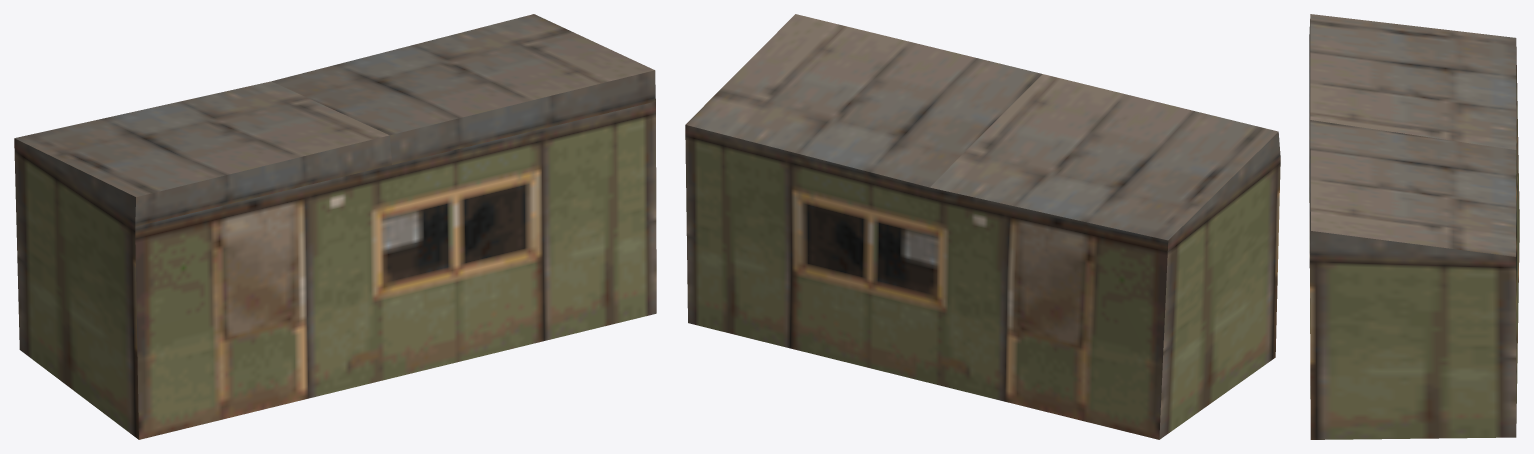
File: barrack01.glb
3 renders of one model, left to right at view 1: azimuth 30°, elevation 25°; view 2: azimuth 150°, elevation 25°; view 3: azimuth 270°, elevation 25°, orthographic. The views are drawn at different scales.
Visible parts, largest first — view 1: barrack01_elements_0; view 2: barrack01_elements_0; view 3: barrack01_elements_0.
Boxes of the visible parts, box(x1,y1,x2,y2) form: barrack01_elements_0: box(14, 14, 656, 439); barrack01_elements_0: box(685, 14, 1280, 439); barrack01_elements_0: box(1309, 14, 1519, 439).
Size of the model in its own units: 6.83 by 3.04 by 2.79.
Materials: 1 (1 with a texture image).
